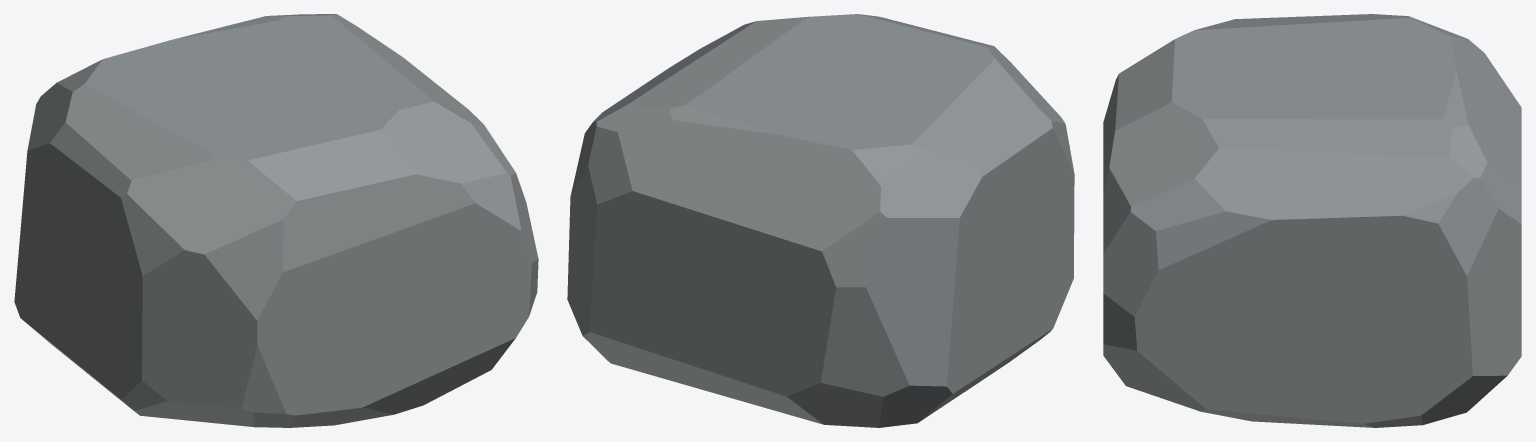
File: NHP_Rock_Boulder_A2_02.fbx
3 renders of one model, left to right at view 1: azimuth 30°, elevation 25°; view 2: azimuth 150°, elevation 25°; view 3: azimuth 270°, elevation 25°, orthographic.
Visible parts, largest first — view 1: NHP_Rock_Boulder_A2_02; view 2: NHP_Rock_Boulder_A2_02; view 3: NHP_Rock_Boulder_A2_02.
Boxes of the visible parts, x1=… form: NHP_Rock_Boulder_A2_02: x1=14, y1=14, x2=538, y2=427; NHP_Rock_Boulder_A2_02: x1=567, y1=14, x2=1074, y2=427; NHP_Rock_Boulder_A2_02: x1=1103, y1=14, x2=1521, y2=427.
Bounding box in the file's own units: 2 × 1.38 × 2.
